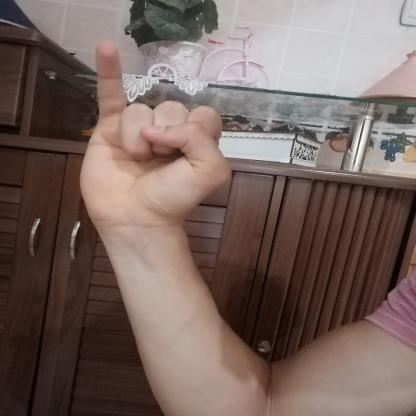MEEM: (55, 30, 254, 238)
